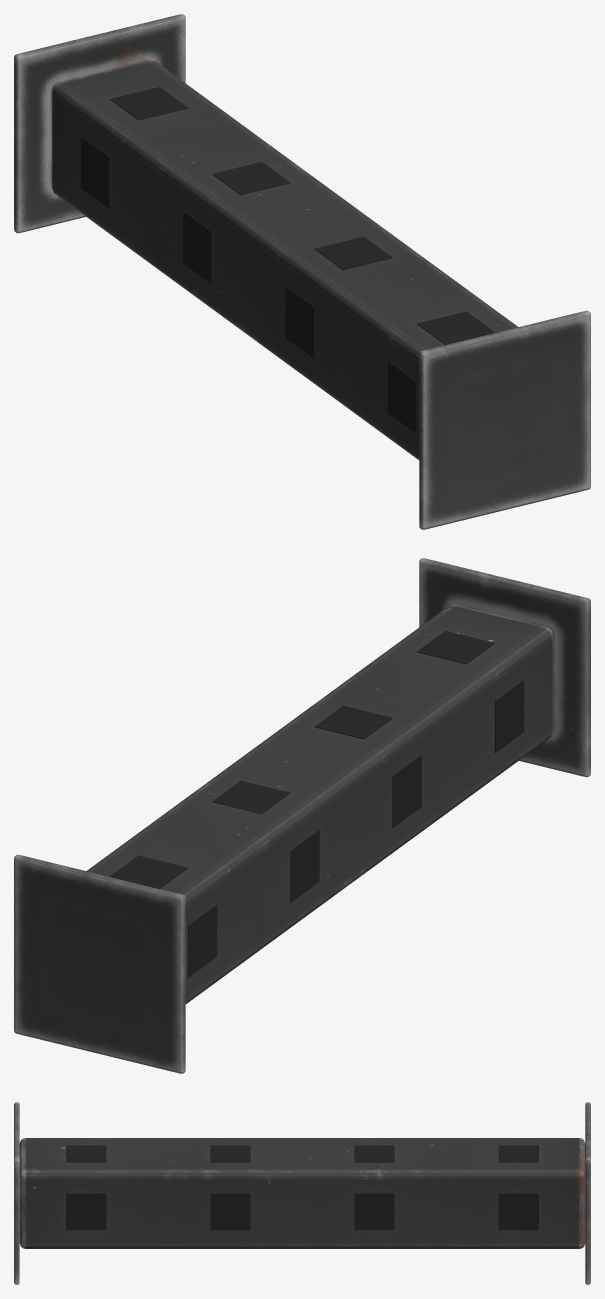
Rendered from SM_PartBeam4.glb.
The picture shows the model from 3 angles, top to bottom: view 1: azimuth 30°, elevation 25°; view 2: azimuth 150°, elevation 25°; view 3: azimuth 270°, elevation 25°; orthographic projection. The views are drawn at different scales.
Parts seen in each view (by area): view 1: SM_PartBeam4; view 2: SM_PartBeam4; view 3: SM_PartBeam4.
Boxes of the visible parts, x1,y1,x2,y2 form: SM_PartBeam4: (14, 14, 590, 529); SM_PartBeam4: (14, 558, 590, 1073); SM_PartBeam4: (14, 1102, 590, 1284).
Size of the model in its own units: 0.48 by 0.48 by 2.
2 materials, 2 textured.
